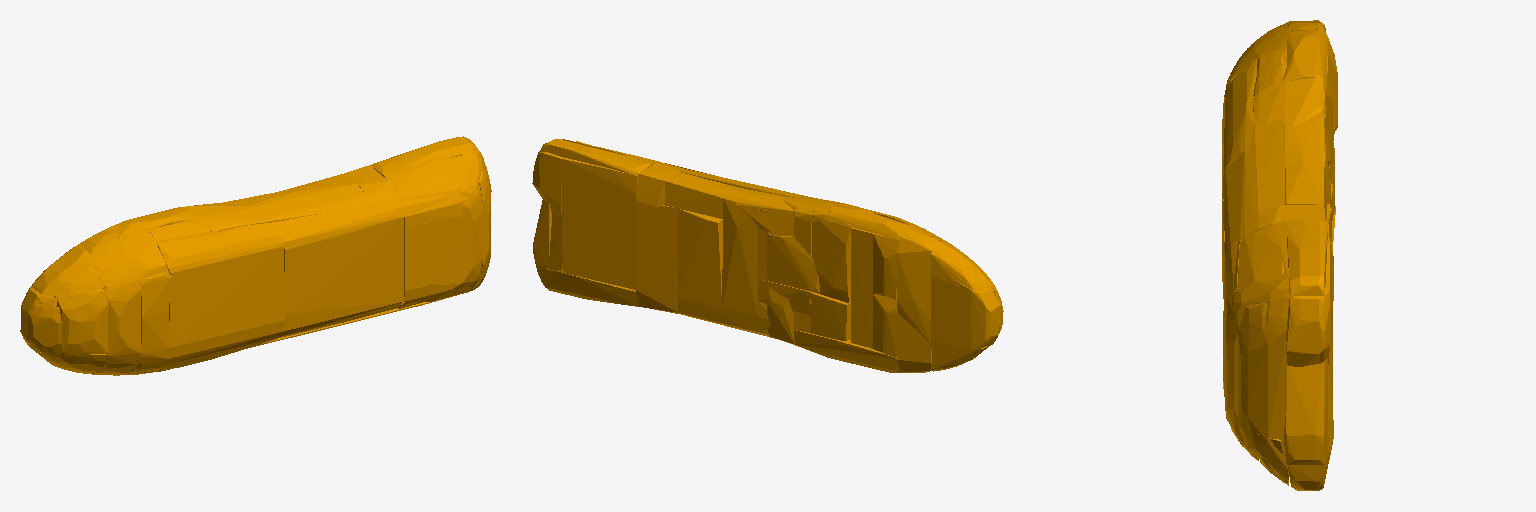
The robot description file, URDF, robot "remote-infini":
<?xml version="1.0" ?>
<robot name="remote-infini">
  <link name="baseLink">
    <contact>
      <lateral_friction value="1.0"/>
      <inertia_scaling value="3.0"/>
    </contact>
    <inertial>
      <origin rpy="0 0 0" xyz="0.000 0.000 0.000"/>
       <mass value=".1"/>
       <inertia ixx="1" ixy="0.0" ixz="0.0" iyy="1" iyz="0.0" izz="1"/>
    </inertial>
    <visual>
      <origin rpy="0 0 0" xyz="0 0 0"/>
      <geometry>
        <mesh filename="remote/remote-infini_fun.obj" scale="1.0 1.0 1.0"/>
      </geometry>
    </visual>
    <collision>
      <origin rpy="0 0 0" xyz="0 0 0"/>
      <geometry>
        <mesh filename="../collision/remote/remote-infini_fun.obj" scale="1.0 1.0 1.0"/>
      </geometry>
    </collision>
  </link>
</robot>
        

--- What the picture shows (computed from the rendered views, not written in the file) ---
Views: 3 orthographic renders of the robot side by side, from view 1: azimuth 30°, elevation 25°; view 2: azimuth 150°, elevation 25°; view 3: azimuth 270°, elevation 25°.
Model remote-infini with 1 links and 0 joints (none), rooted at baseLink, posed every joint at zero.
Visible links, largest first — view 1: baseLink; view 2: baseLink; view 3: baseLink.
Boxes of the visible links, left/top/right/bottom form: baseLink: left=20, top=136, right=491, bottom=375; baseLink: left=532, top=139, right=1003, bottom=372; baseLink: left=1222, top=20, right=1337, bottom=490.
Bounding box of the posed robot: 0.1748 × 0.0262 × 0.0541 m (x, y, z).
1 mesh visuals loaded from 1 distinct referenced files (1 OBJ).